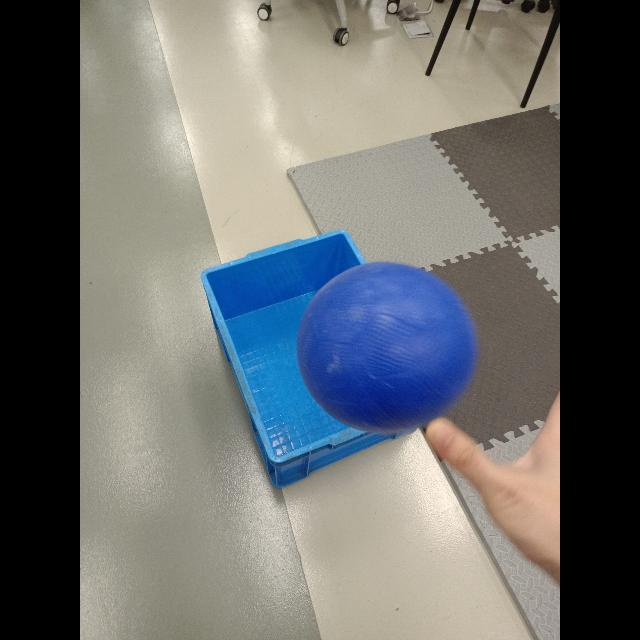B: (296, 262, 476, 432)
